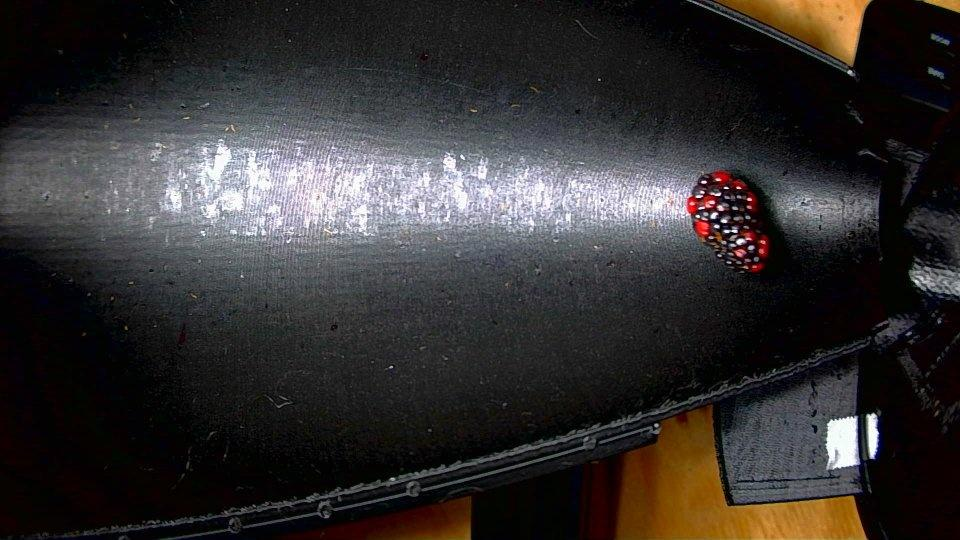berry: (686, 171, 769, 272)
